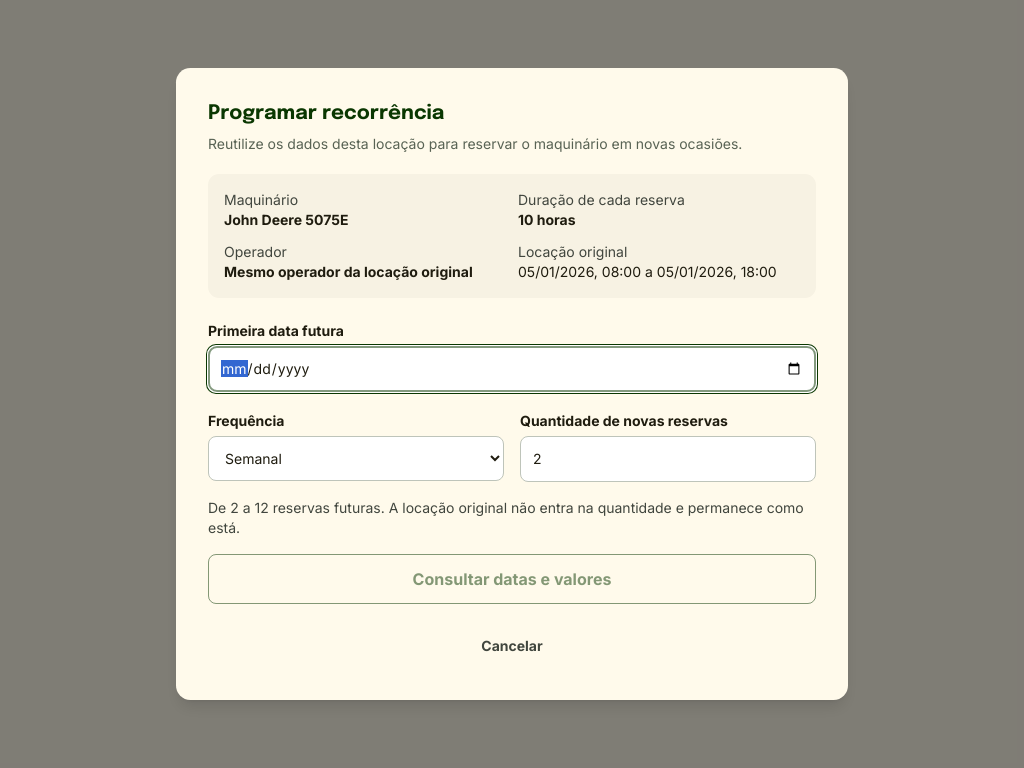
programar recorrência › shows field, non-field and availability conflicts and clears them when edited
In the date field labelled "Primeira data futura": [512, 369] box [208,346,816,392], type "2099-10-05"
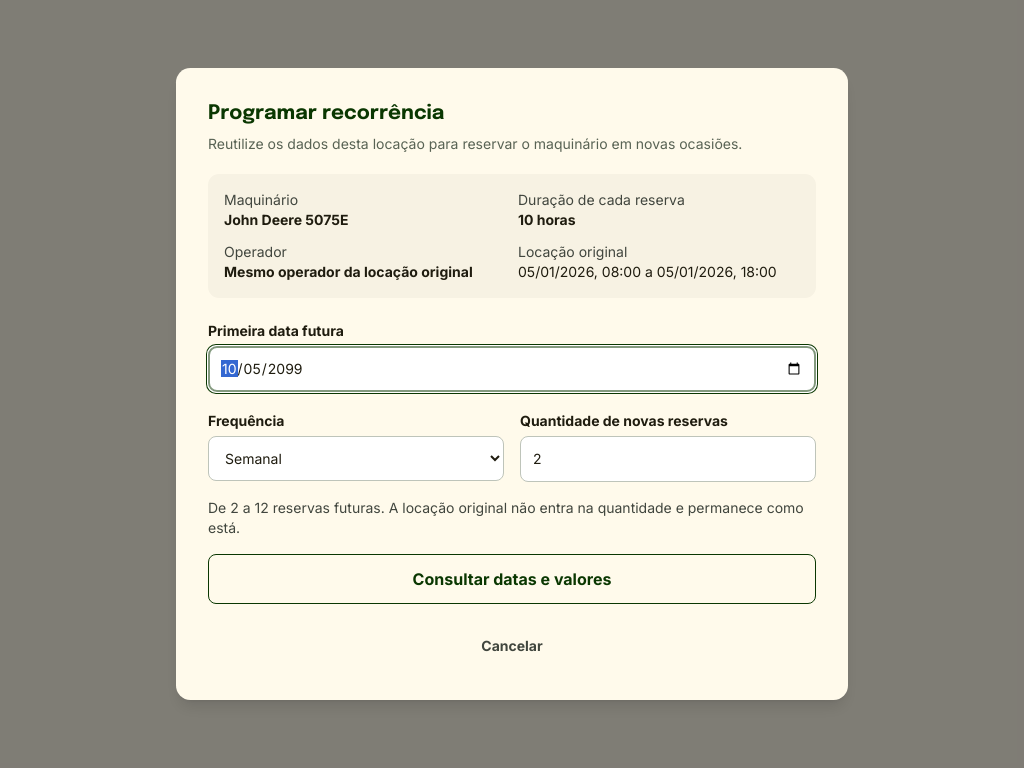
Click the button "Consultar datas e valores": [512, 579] box [208,554,816,604]
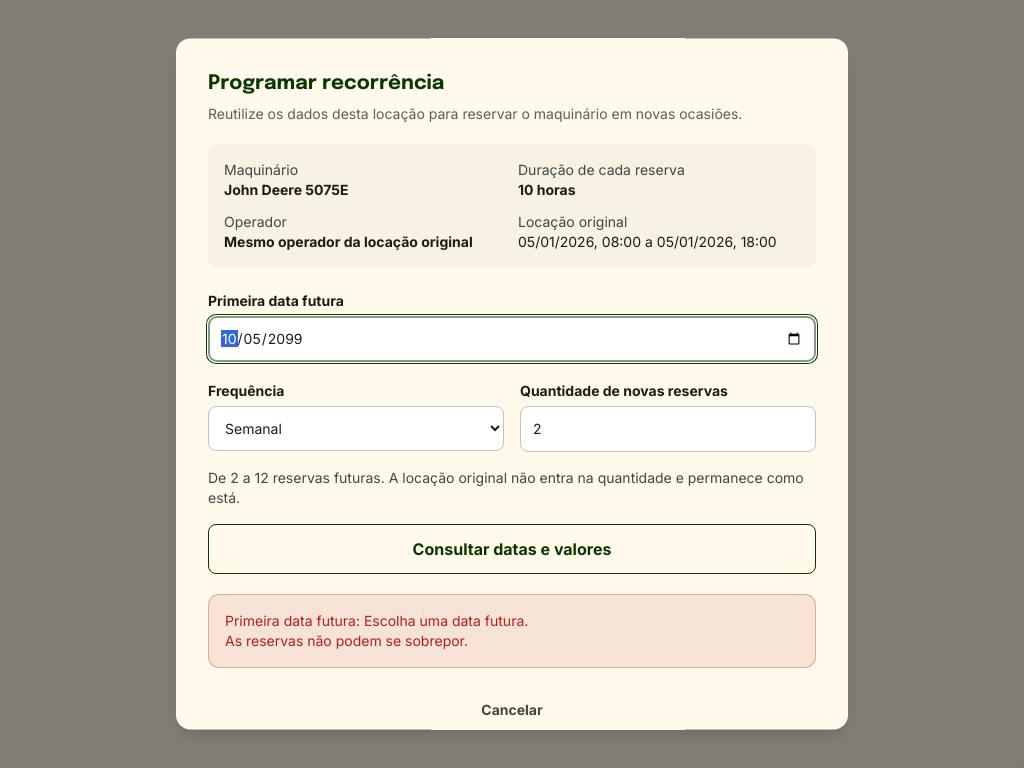
Expected: the message shows "Primeira data futura: Escolha uma data futura.", [225,612,528,629]
Expected: the message shows "As reservas não podem se sobrepor.", [225,632,468,649]
In the date field labelled "Primeira data futura": [512, 339] box [208,316,816,362], type "2099-10-06"
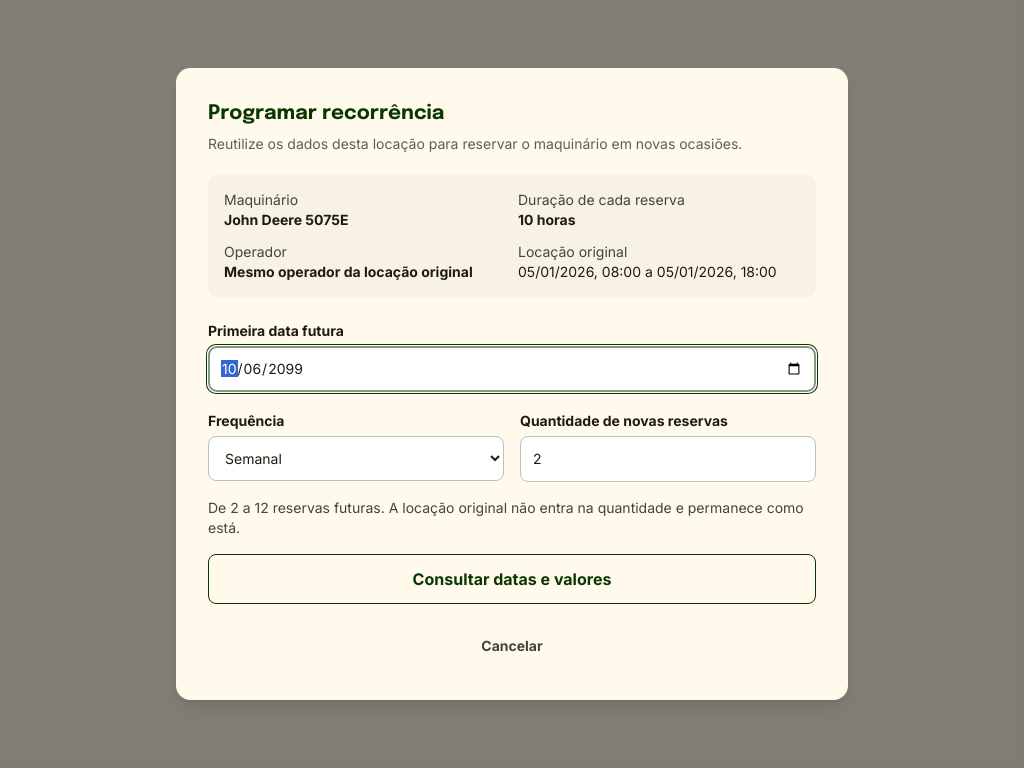
Expected: the message is gone
Click the button "Consultar datas e valores": [512, 579] box [208,554,816,604]
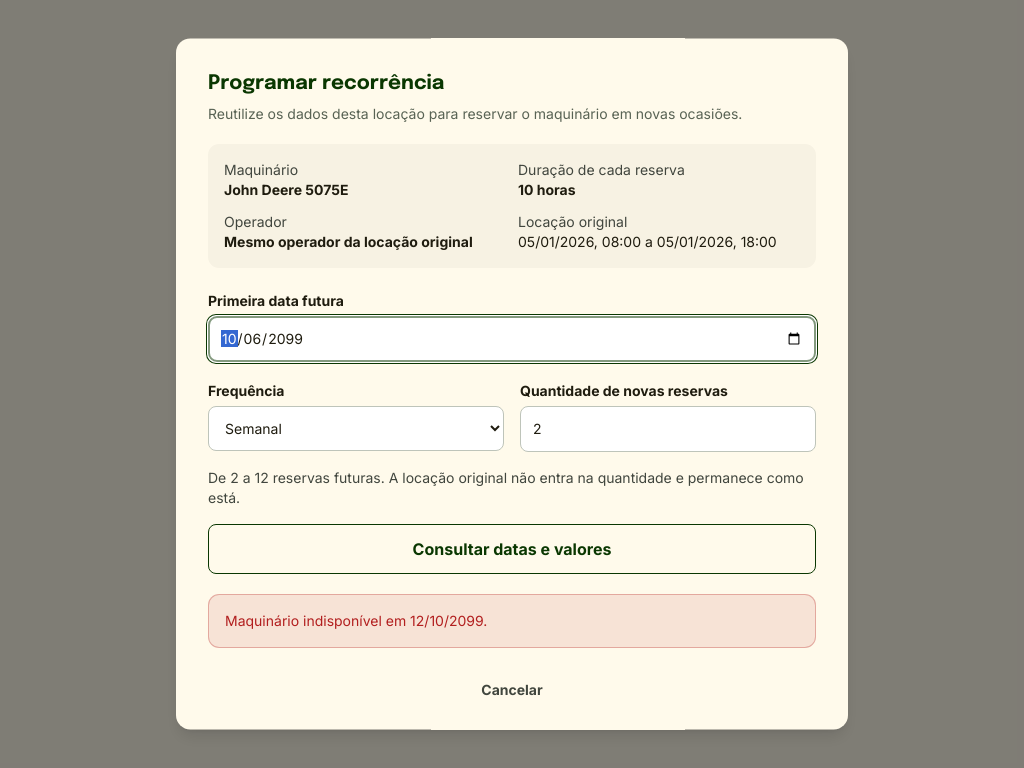
Expected: the message shows "Maquinário indisponível", [225,612,487,629]
